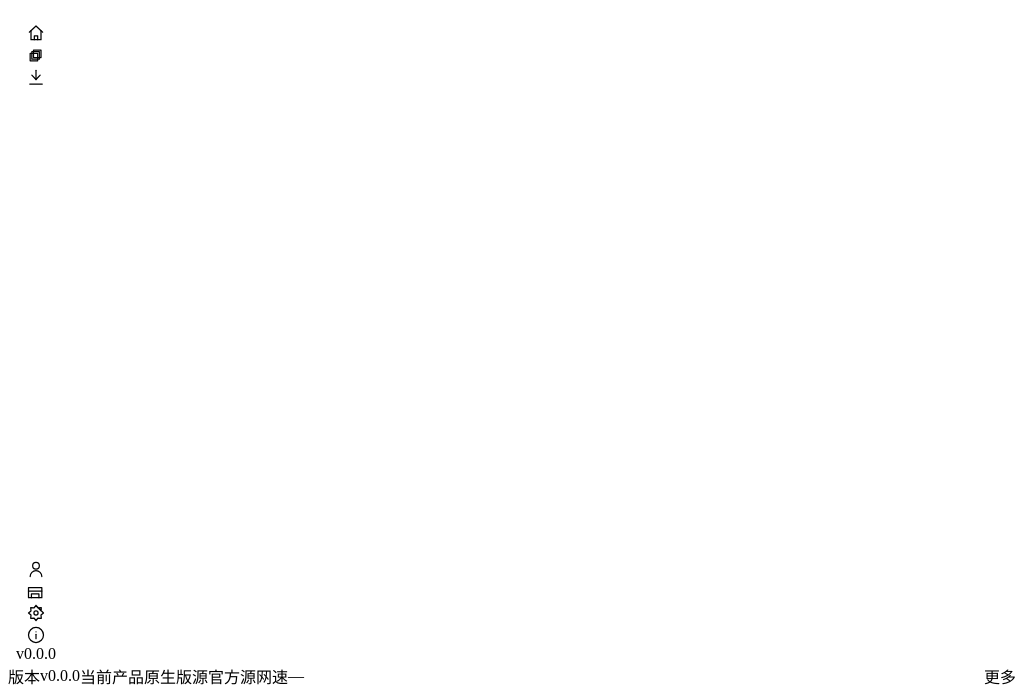
Test: 状态条（§4.1） › 「更多」展开详情、再点收起，而 `aria-expanded` 跟着变
(page scrolled)
Click the button "更多". click: (1000, 676)
box: top-left (984, 664), bottom-right (1016, 688)
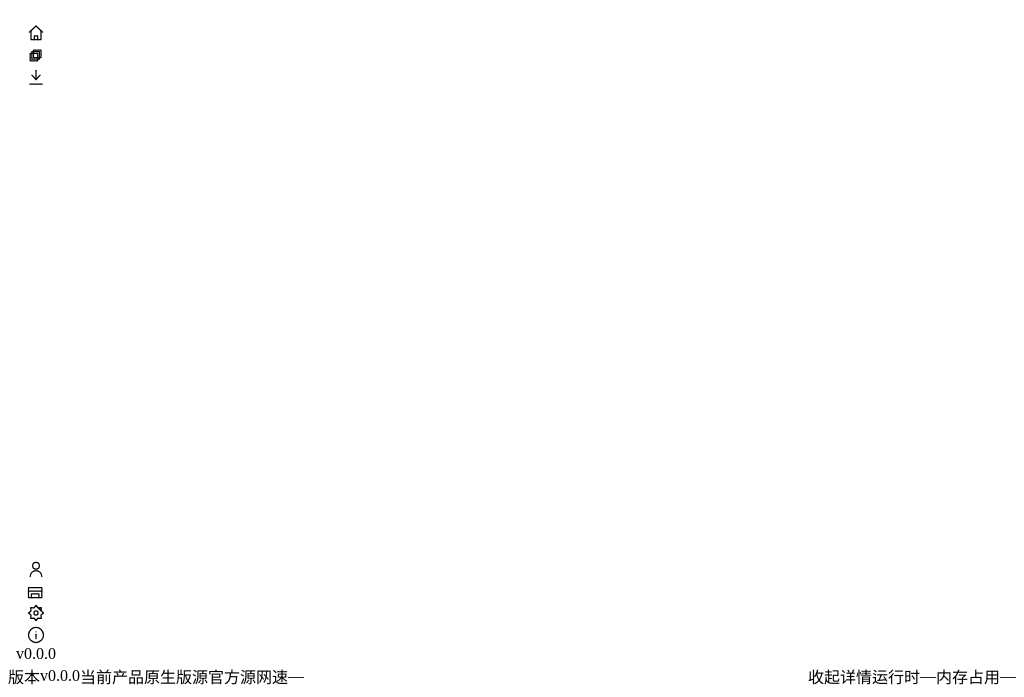
Now the button "收起详情" is expanded
Now the list with id "shell-status-details" is shown, box top-left (872, 664), bottom-right (1016, 688)
Now the list with id "shell-status-details" shows "运行时", box top-left (872, 669), bottom-right (920, 686)
Click the button "收起详情". click: (840, 676)
box: top-left (808, 664), bottom-right (872, 688)
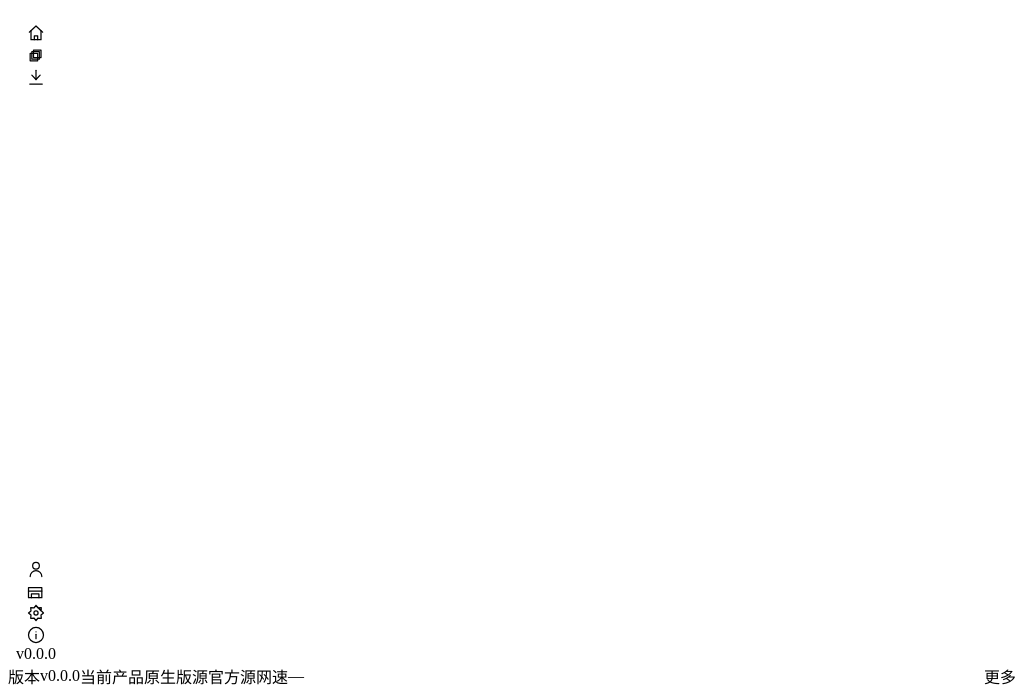
Now the list with id "shell-status-details" is gone
